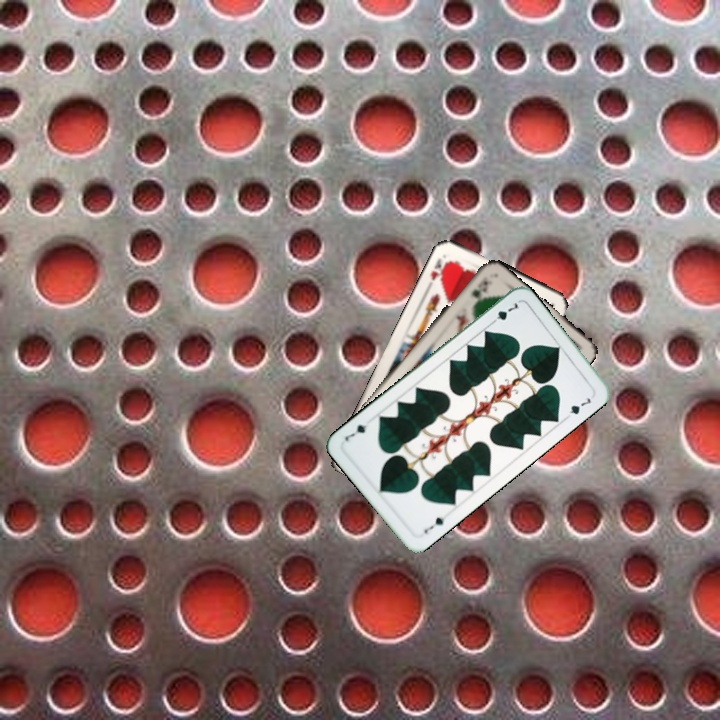G7: (486, 298, 522, 327), (420, 511, 451, 536)
GK: (467, 277, 490, 301)
HK: (427, 254, 453, 283)
